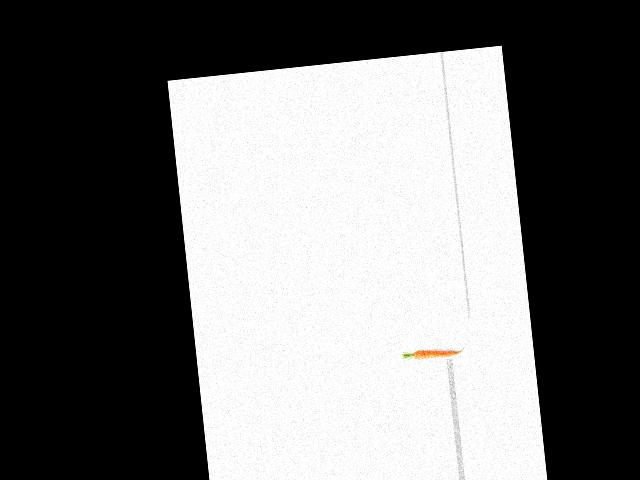carrot: (409, 345, 452, 363)
